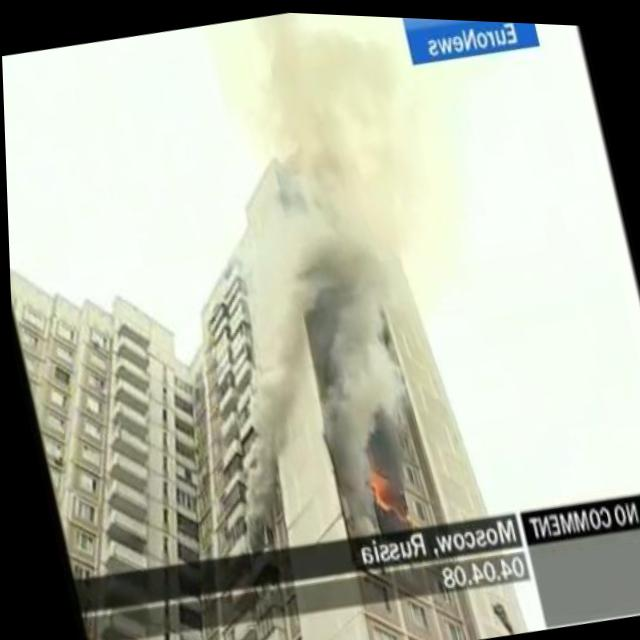fire: (359, 460, 392, 512)
